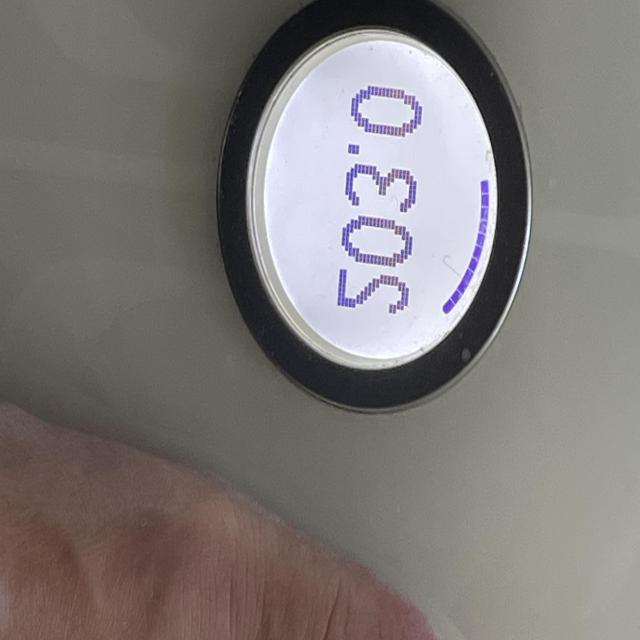ws: (218, 7, 532, 416)
